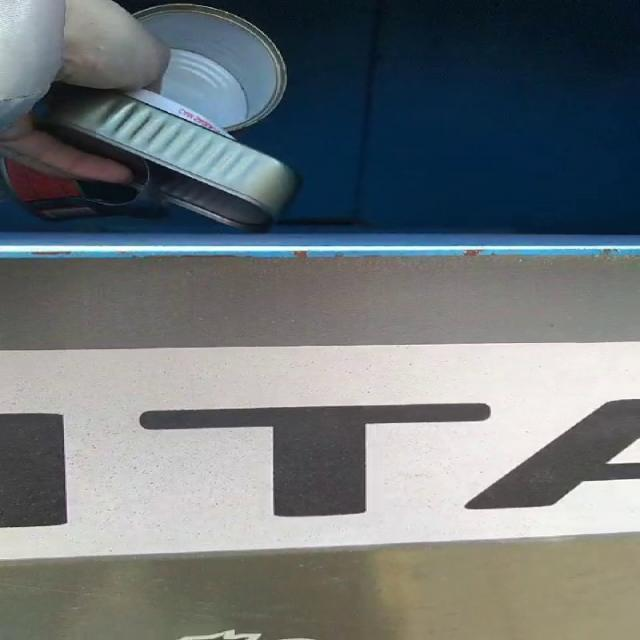Bin: (117, 0, 639, 236), (0, 537, 637, 640), (1, 258, 637, 349)
Metal: (3, 4, 299, 231)
